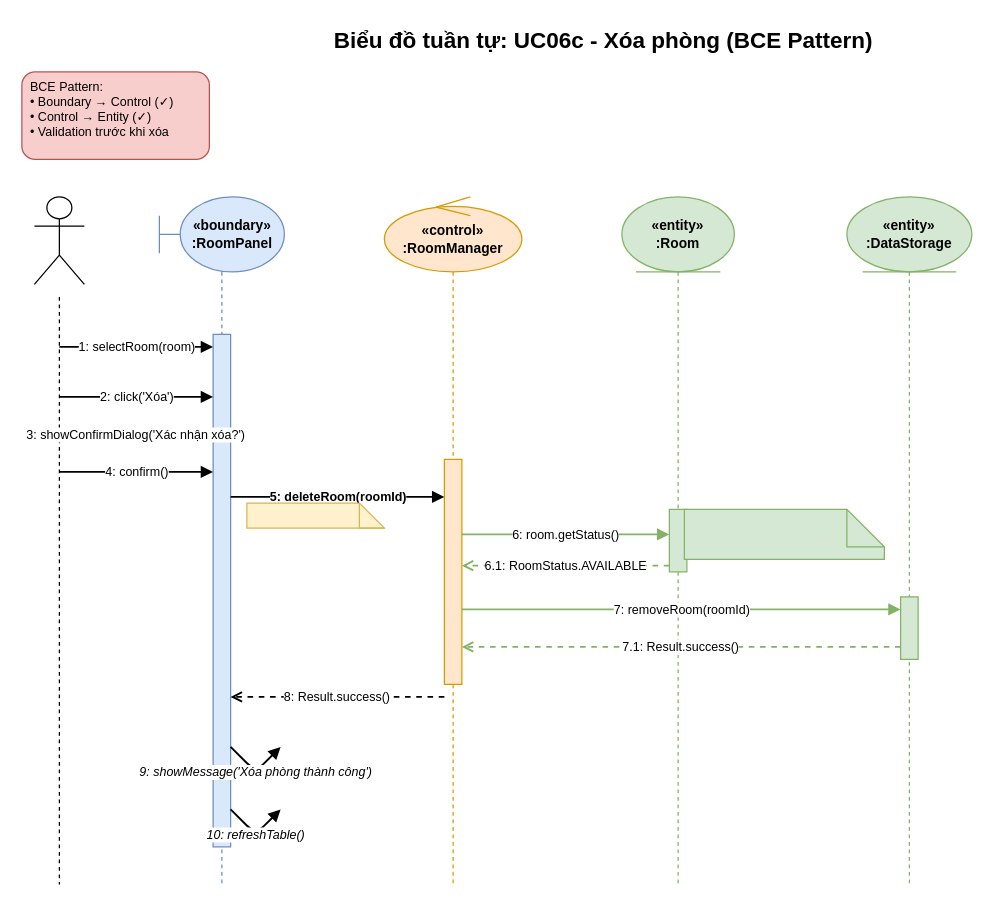
This 994x908 diagram has some shape labels left out. The box of each missing label's shape, as (x1, y1, x2, y2) in pixels:
Quản lý: (33, 196, 84, 284)
✓ Boundary → Control: (246, 502, 384, 528)
✓ Chỉ xóa phòng AVAILABLE Không xóa phòng đang OCCUPIED: (683, 508, 884, 559)
